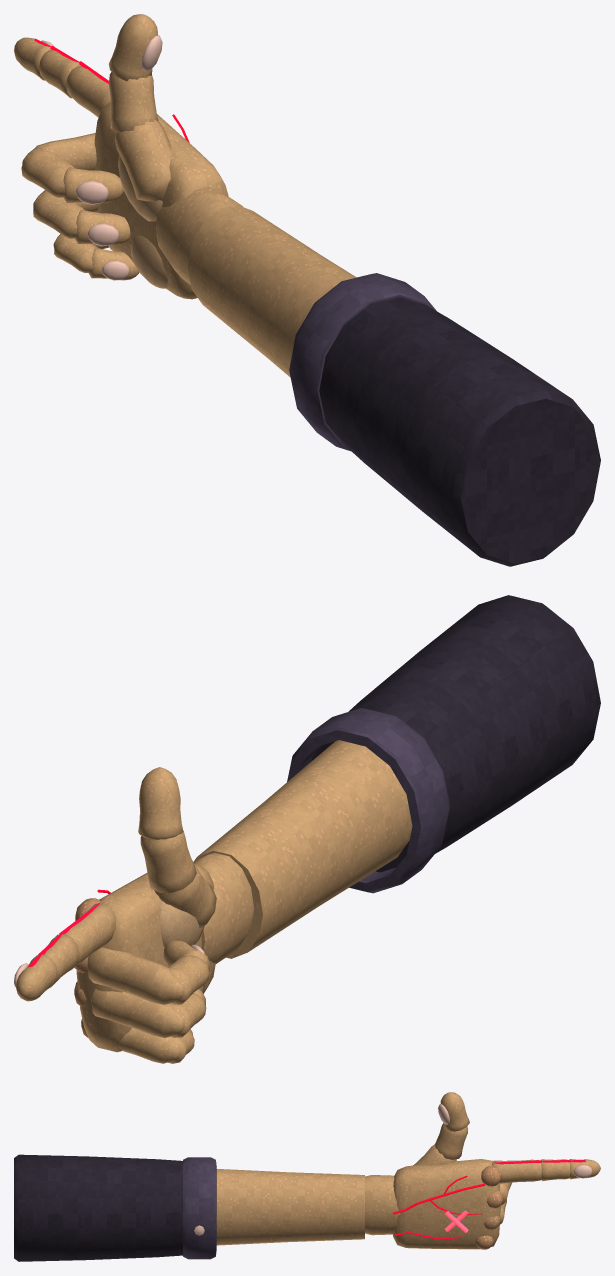
The model's file is w_bloodcross.glb.
The picture shows the model from 3 angles, top to bottom: view 1: azimuth 30°, elevation 25°; view 2: azimuth 150°, elevation 25°; view 3: azimuth 270°, elevation 25°; orthographic projection. The views are drawn at different scales.
Visible parts, largest first — view 1: bc_arm, bc_palm_wzA, bc_thumb0_wzA, bc_thumb1_wzB, bc_thumb2_wzB, bc_mid1_wzA, bc_index0_wzB, bc_ring1_wzA, bc_mid0_wzA, bc_mid2_wzA, bc_ring2_wzA, bc_index1_wzB (+3 smaller); view 2: bc_arm, bc_palm_wzA, bc_mid0_wzA, bc_ring0_wzA, bc_thumb2_wzB, bc_thumb1_wzB, bc_index0_wzB, bc_thumb0_wzA, bc_pinky0_wzA, bc_index2_wzB, bc_mid1_wzA, bc_index1_wzB (+2 smaller); view 3: bc_arm, bc_palm_wzA, bc_index0_wzB, bc_back_fx_wzN, bc_thumb1_wzB, bc_thumb2_wzB, bc_index1_wzB, bc_thumb0_wzA, bc_index2_wzB.
Part boxes in pixels (left/top/right/bottom): bc_arm: left=155, top=186, right=600, bottom=566; bc_palm_wzA: left=94, top=102, right=228, bottom=299; bc_thumb0_wzA: left=114, top=120, right=171, bottom=201; bc_thumb1_wzB: left=108, top=72, right=158, bottom=132; bc_thumb2_wzB: left=108, top=14, right=157, bottom=81; bc_mid1_wzA: left=21, top=147, right=73, bottom=197; bc_index0_wzB: left=66, top=65, right=110, bottom=117; bc_ring1_wzA: left=33, top=191, right=83, bottom=238; bc_mid0_wzA: left=22, top=133, right=96, bottom=170; bc_mid2_wzA: left=63, top=167, right=123, bottom=203; bc_ring2_wzA: left=74, top=209, right=130, bottom=245; bc_index1_wzB: left=39, top=49, right=80, bottom=98; bc_arm: left=193, top=595, right=600, bottom=963; bc_palm_wzA: left=74, top=864, right=215, bottom=1052; bc_mid0_wzA: left=87, top=947, right=183, bottom=1004; bc_ring0_wzA: left=91, top=989, right=184, bottom=1037; bc_thumb2_wzB: left=138, top=767, right=183, bottom=839; bc_thumb1_wzB: left=140, top=830, right=196, bottom=892; bc_index0_wzB: left=65, top=903, right=115, bottom=964; bc_thumb0_wzA: left=154, top=864, right=216, bottom=927; bc_pinky0_wzA: left=118, top=1028, right=181, bottom=1063; bc_index2_wzB: left=15, top=954, right=57, bottom=1001; bc_mid1_wzA: left=167, top=955, right=209, bottom=1004; bc_index1_wzB: left=38, top=934, right=79, bottom=981; bc_arm: left=14, top=1154, right=400, bottom=1261; bc_palm_wzA: left=393, top=1159, right=503, bottom=1249; bc_index0_wzB: left=491, top=1159, right=541, bottom=1183; bc_back_fx_wzN: left=393, top=1175, right=485, bottom=1239; bc_thumb1_wzB: left=434, top=1123, right=467, bottom=1159; bc_thumb2_wzB: left=440, top=1092, right=469, bottom=1131; bc_index1_wzB: left=541, top=1159, right=570, bottom=1181; bc_thumb0_wzA: left=413, top=1145, right=456, bottom=1165; bc_index2_wzB: left=569, top=1159, right=600, bottom=1179.
Bounding box in the file's own units: 0.0917 × 0.151 × 0.4985.
9 materials, 5 textured.
